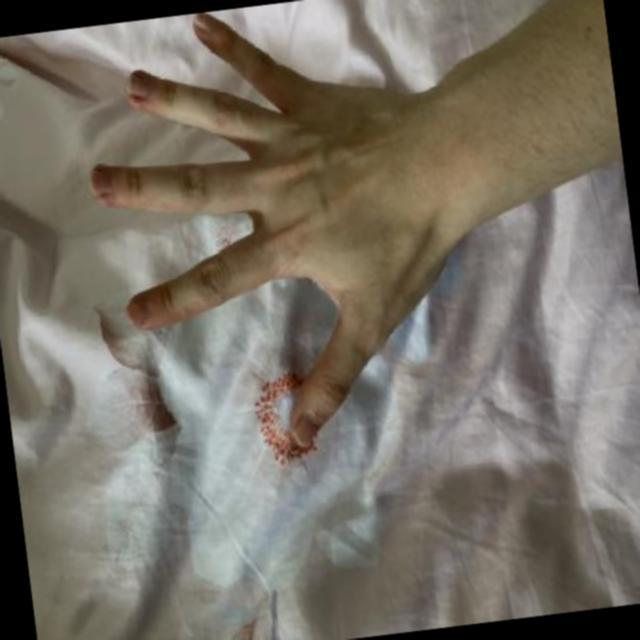hand: (58, 0, 512, 507)
